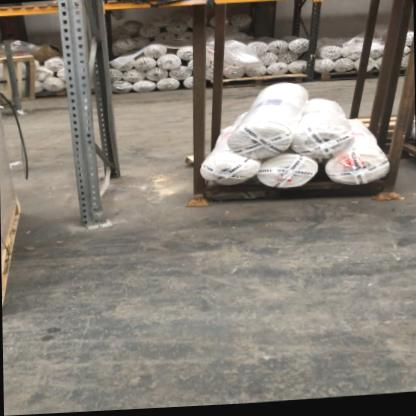vertical_damage: (77, 204, 116, 234)
